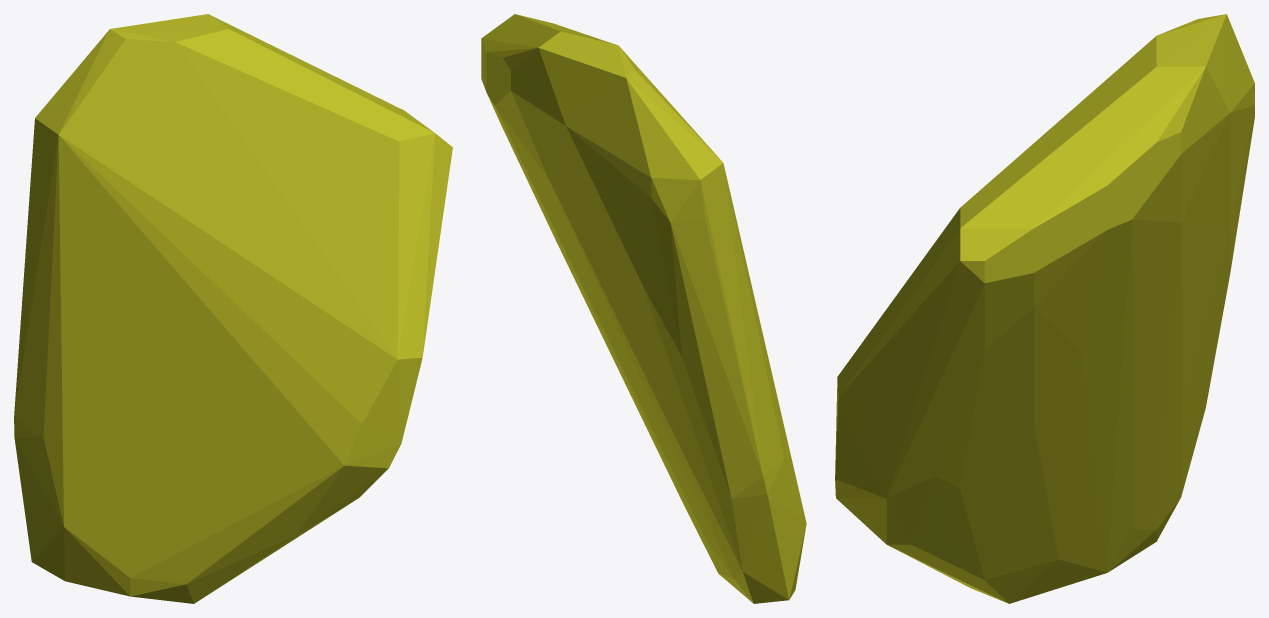
The model's file is mouth_cup008.obj.
3 renders of one model, left to right at view 1: azimuth 30°, elevation 25°; view 2: azimuth 150°, elevation 25°; view 3: azimuth 270°, elevation 25°, orthographic. The views are drawn at different scales.
Parts seen in each view (by area): view 1: mouth_cup008_mouth_cup008.001; view 2: mouth_cup008_mouth_cup008.001; view 3: mouth_cup008_mouth_cup008.001.
Boxes of the visible parts, x1,y1,x2,y2 form: mouth_cup008_mouth_cup008.001: (14, 14, 452, 603); mouth_cup008_mouth_cup008.001: (481, 14, 806, 603); mouth_cup008_mouth_cup008.001: (835, 14, 1254, 603).
Bounding box in the file's own units: 0.1837 × 0.2492 × 0.1614.
